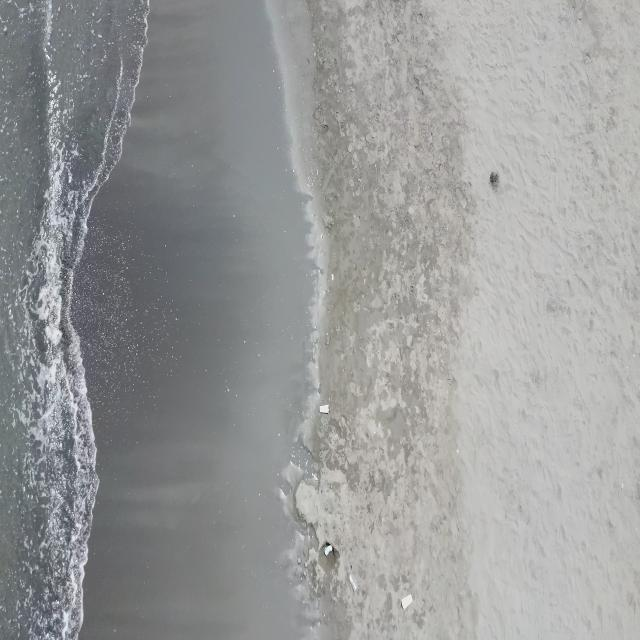takeaway-cup: (401, 592, 413, 610), (349, 573, 358, 591), (319, 404, 330, 414), (324, 544, 333, 556)
